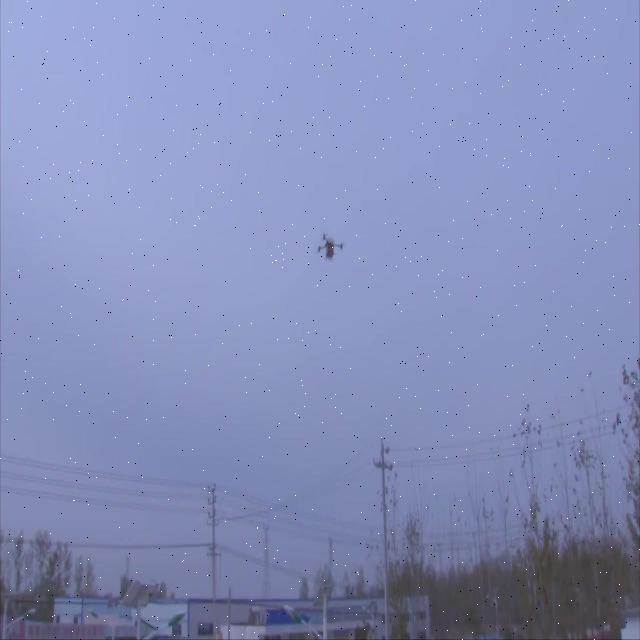UAV: (318, 233, 343, 260)
